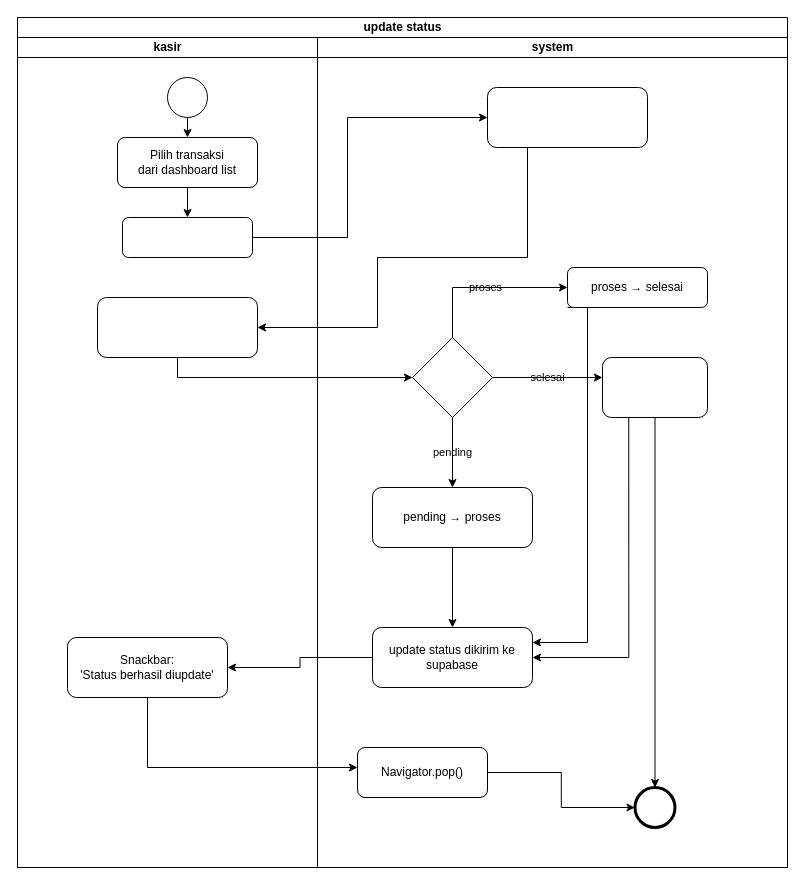
Some shapes in this 805 by 885 pixel diagram are drawn without their labels. Here are the shapes that lost their labels. From the top down, the centre of each, then its label:
pixel 567 117: _showUpdateStatusDialog() Tampil dialog
pixel 187 237: Klik tombol 'Update Status'
pixel 177 327: Tampil status saat ini: - pending / proses / selesai
pixel 452 377: Status sekarang?
pixel 655 387: Sudah selesai, tidak bisa update
